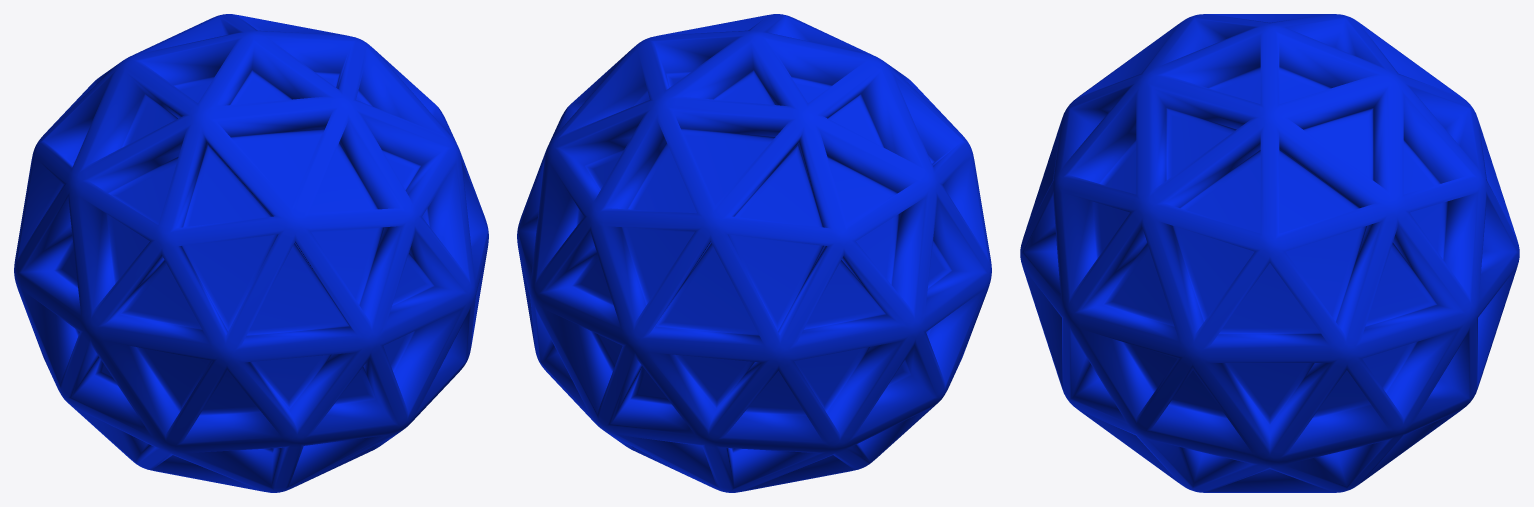
3 renders of one model, left to right at view 1: azimuth 30°, elevation 25°; view 2: azimuth 150°, elevation 25°; view 3: azimuth 270°, elevation 25°, orthographic. The views are drawn at different scales.
Parts seen in each view (by area): view 1: Icosphere; view 2: Icosphere; view 3: Icosphere.
Boxes of the visible parts, x1,y1,x2,y2 form: Icosphere: [14, 14, 488, 492]; Icosphere: [517, 14, 991, 492]; Icosphere: [1020, 14, 1519, 492].
Bounding box in the file's own units: 1.9 × 1.98 × 1.98.
